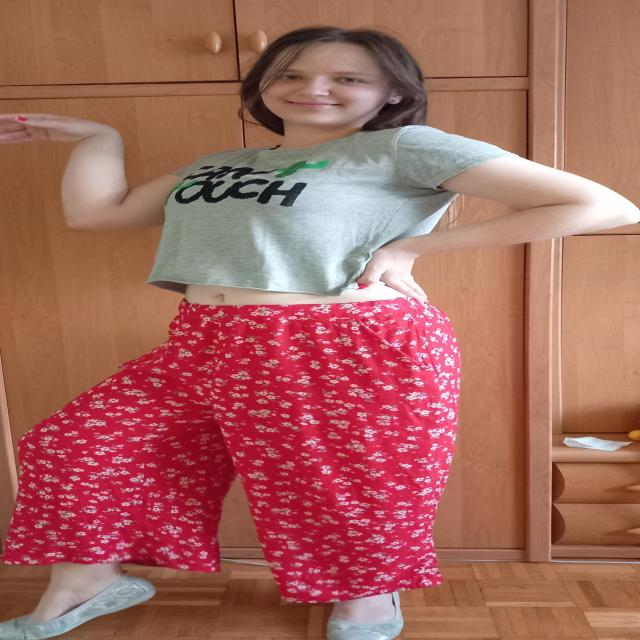Tshirt: (140, 125, 522, 296)
pants: (14, 299, 462, 604)
